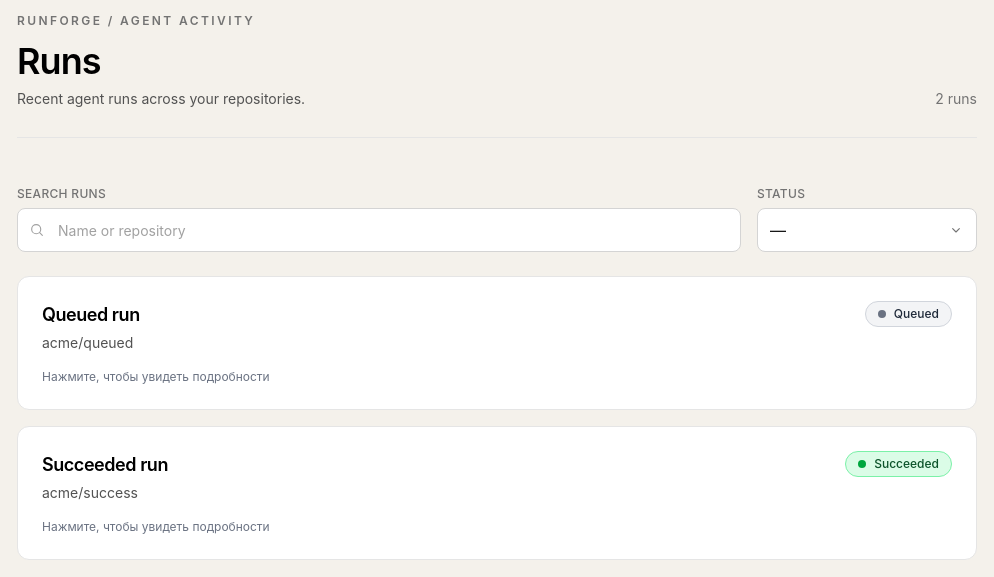
Run list filters › search by name or repository
The image size is (994, 577).
Expected: the heading "Queued run" is shown, [42,301,140,329]
Type "Succeeded run" into the search field labelled "Search runs" at {"x": 379, "y": 230}, box [17,208,741,252]
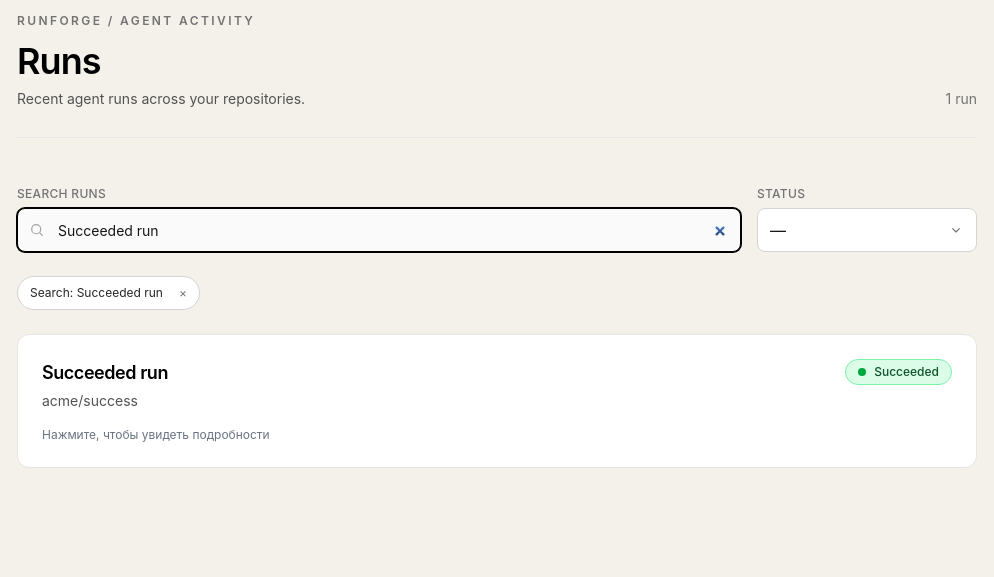
Expected: the heading "Succeeded run" is shown, [42,359,168,387]
Expected: the heading "Queued run" is gone
